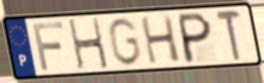F: (30, 20, 66, 72)
G: (106, 16, 143, 68)
H: (66, 16, 111, 72), (138, 14, 183, 66)
P: (177, 10, 213, 65)
T: (213, 9, 244, 63)
